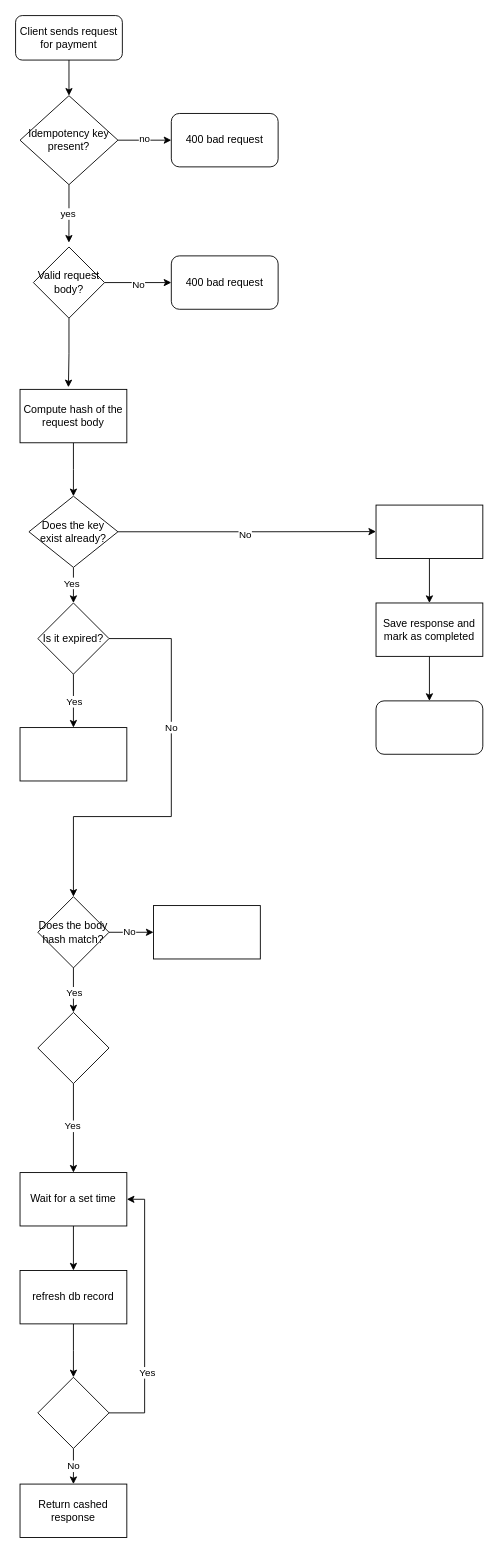
Image size: 498x1553. Some labels were removed from this diagram. The box of each missing label's shape, as (x1, y1, x2, y2) in pixels:
Deduct amount from account balance: (375, 504, 483, 558)
request still processing?: (37, 1011, 109, 1084)
Return 201 Created: (375, 700, 483, 754)
Return 410: (19, 727, 127, 781)
return 422 unpprocessable entity: (153, 905, 260, 959)
Still processing?: (37, 1376, 109, 1448)
